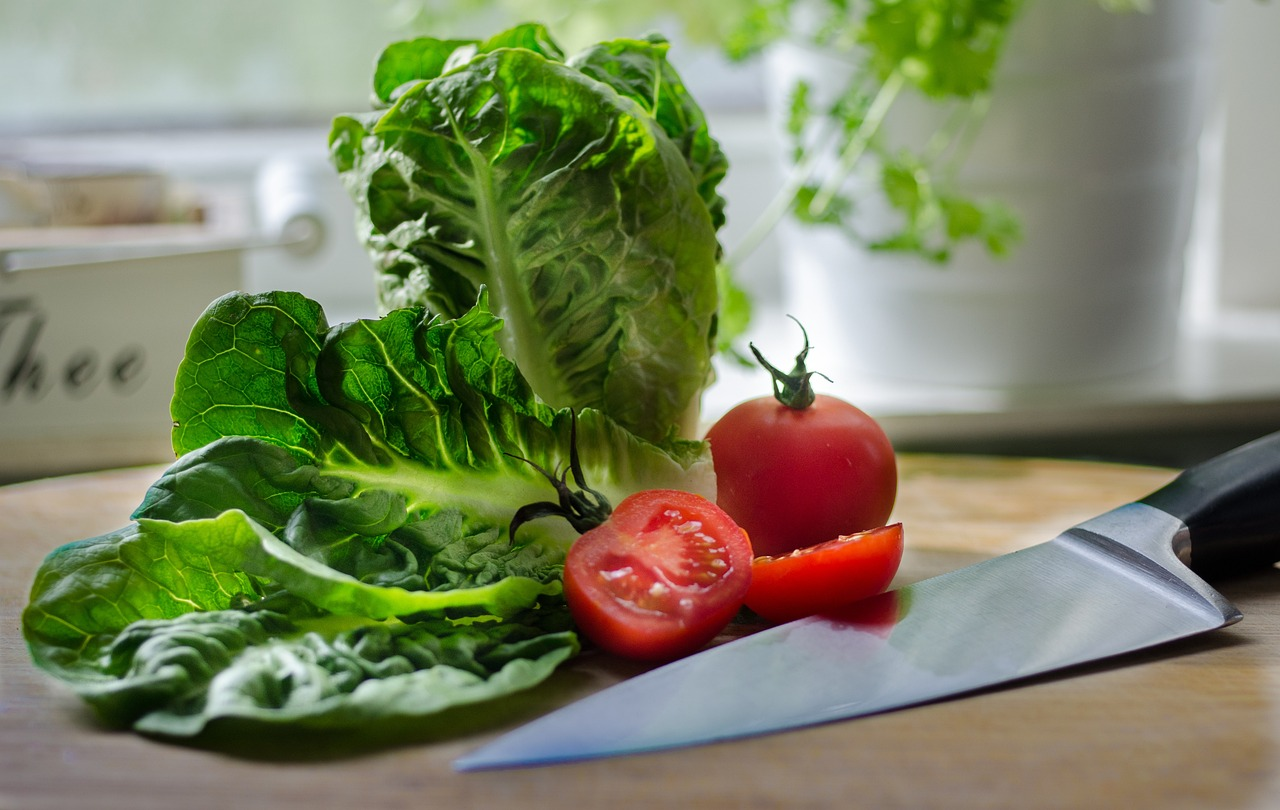knife: (443, 420, 1280, 787)
